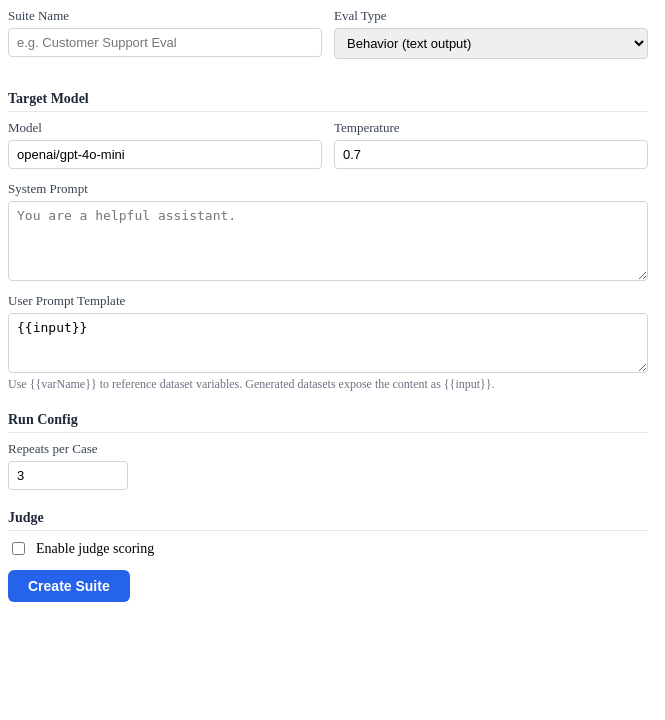
SuiteForm › shows judge fields when judge is enabled
Check: the field with placeholder "Describe what a good response" is not shown
What coordinates should you click on to do the following:
click the checkbox labelled "Enable judge scoring"
I would click on:
 (18, 548)
Its box is x1=12 y1=542 x2=25 y2=555.
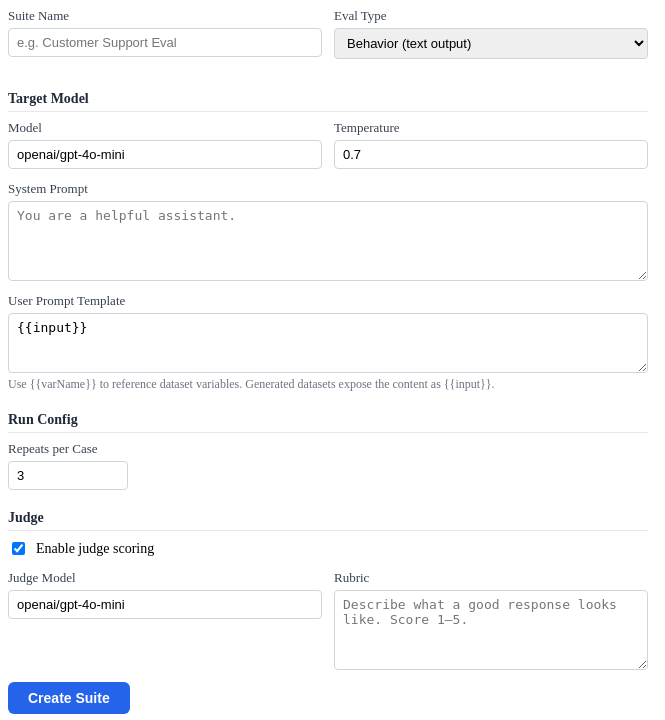
Check: the text box with placeholder "Describe what a good response looks like. Score 1–5." is shown, box x1=334 y1=590 x2=648 y2=670
